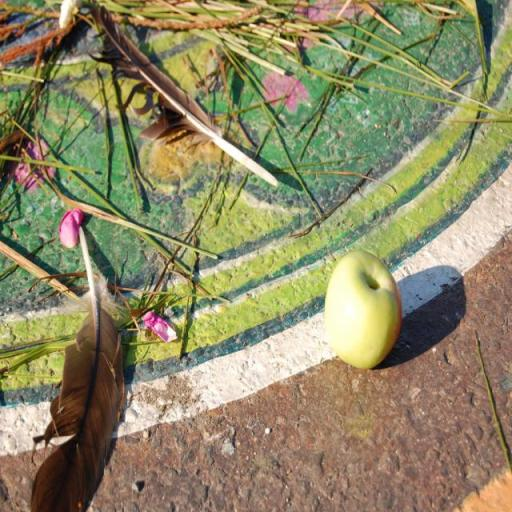fruit: (325, 251, 401, 368)
